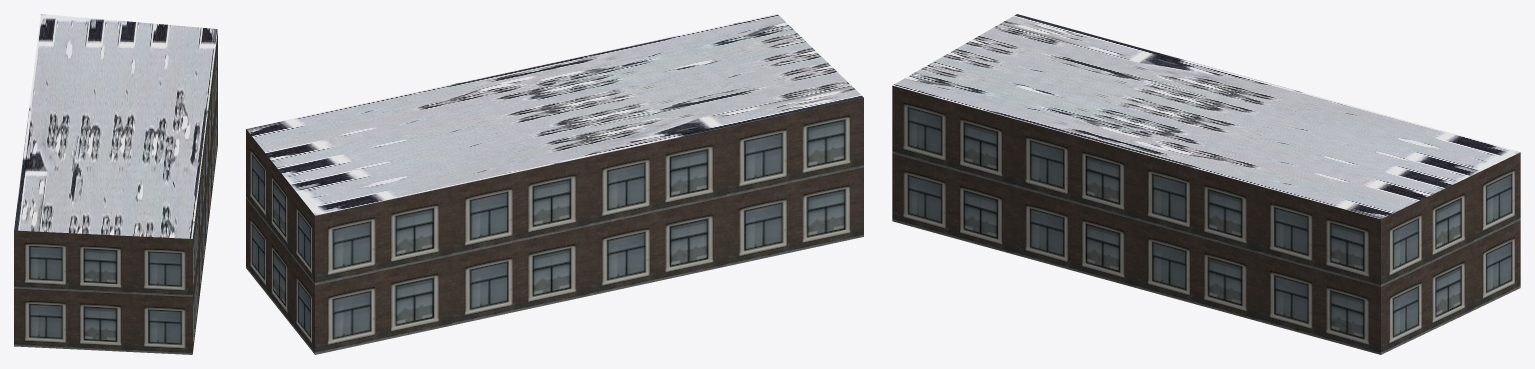
The model's file is ResTex__535.fbx.
The picture shows the model from 3 angles, left to right: view 1: azimuth 30°, elevation 25°; view 2: azimuth 150°, elevation 25°; view 3: azimuth 270°, elevation 25°; orthographic projection. The views are drawn at different scales.
Visible parts, largest first — view 1: CityEngineMaterial_15_m, CityEngineMaterial_16_m; view 2: CityEngineMaterial_16_m, CityEngineMaterial_15_m; view 3: CityEngineMaterial_16_m, CityEngineMaterial_15_m.
Boxes of the visible parts, x1,y1,x2,y2 form: CityEngineMaterial_15_m: [14, 14, 217, 238]; CityEngineMaterial_16_m: [14, 30, 217, 354]; CityEngineMaterial_16_m: [246, 97, 863, 354]; CityEngineMaterial_15_m: [246, 14, 863, 215]; CityEngineMaterial_16_m: [892, 85, 1520, 354]; CityEngineMaterial_15_m: [892, 14, 1520, 218].
Bounding box in the file's own units: 19.46 × 6 × 25.18.
2 materials, 2 textured.
